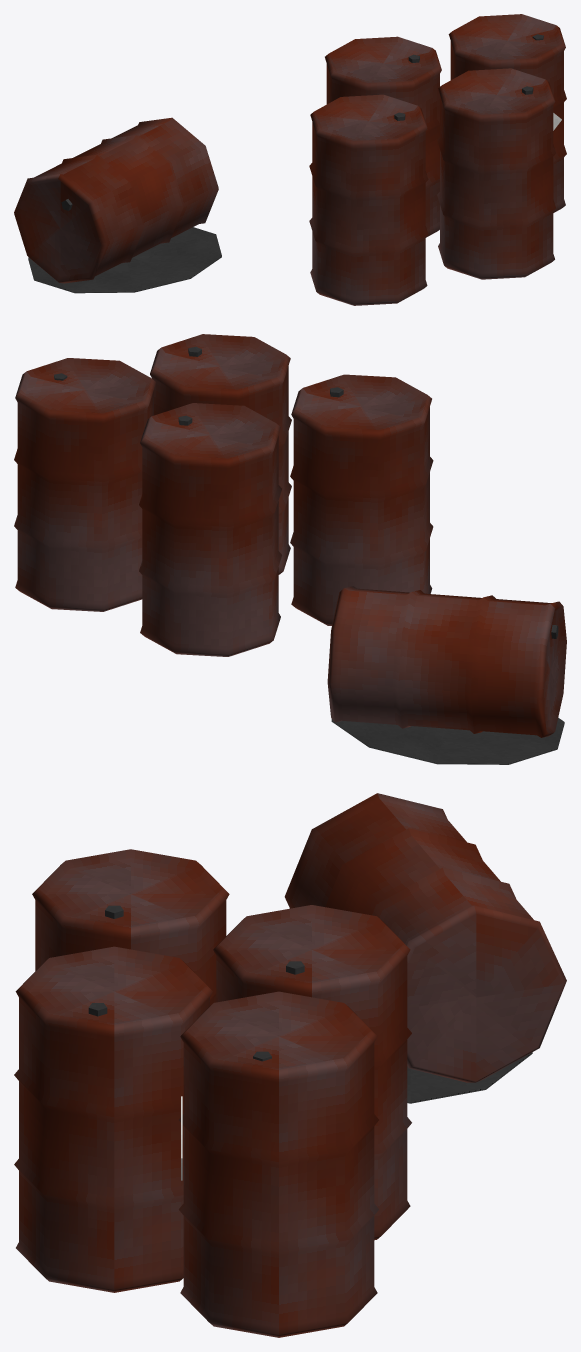
The model's file is ext_fuel_barrels.glb.
3 views of the same model, one above another, from view 1: azimuth 30°, elevation 25°; view 2: azimuth 150°, elevation 25°; view 3: azimuth 270°, elevation 25° (orthographic). The views are drawn at different scales.
Visible parts, largest first — view 1: barrels-col, detail; view 2: barrels-col, detail; view 3: barrels-col, detail.
Part boxes in pixels (x1=…): barrels-col: x1=14, y1=14, x2=566, y2=305; detail: x1=28, y1=113, x2=561, y2=293; barrels-col: x1=14, y1=334, x2=566, y2=737; detail: x1=331, y1=718, x2=564, y2=764; barrels-col: x1=14, y1=793, x2=566, y2=1337; detail: x1=181, y1=1052, x2=532, y2=1180.
Size of the model in its own units: 2.8 by 0.9175 by 1.68.
3 materials, 3 textured.
